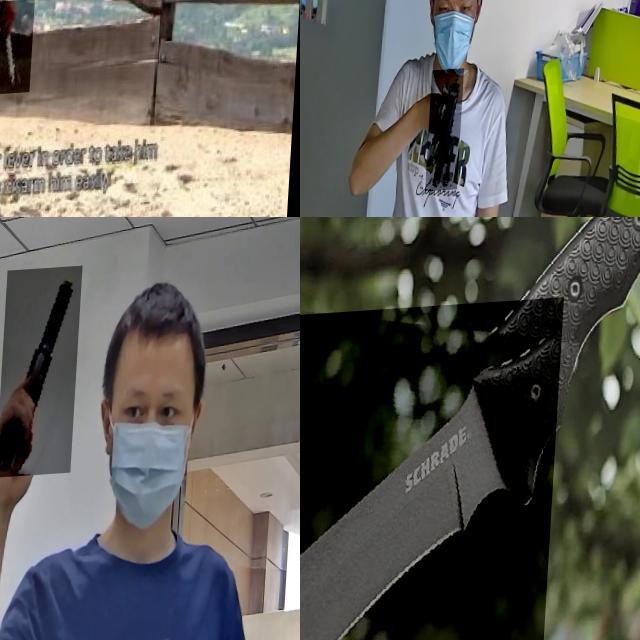-: (300, 303, 566, 640), (0, 4, 39, 99)
gun-knife-thesis - v11 Yolov5 augmented: (1, 271, 85, 482), (431, 72, 468, 196)
